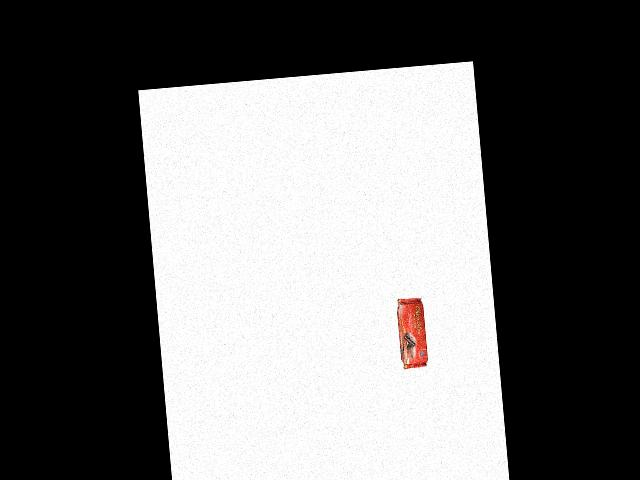chocolate: (389, 296, 429, 371)
